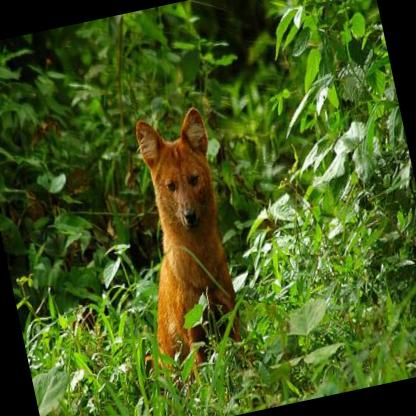dhole: (113, 105, 252, 368)
